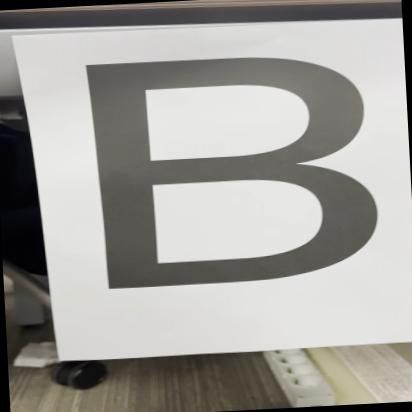seat: (62, 33, 387, 310)
